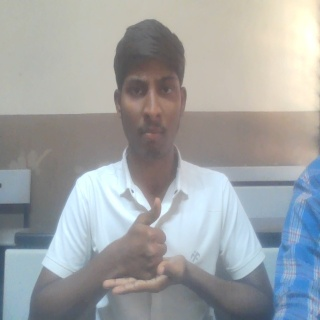Face: (111, 17, 189, 167)
Help: (98, 194, 191, 300)
